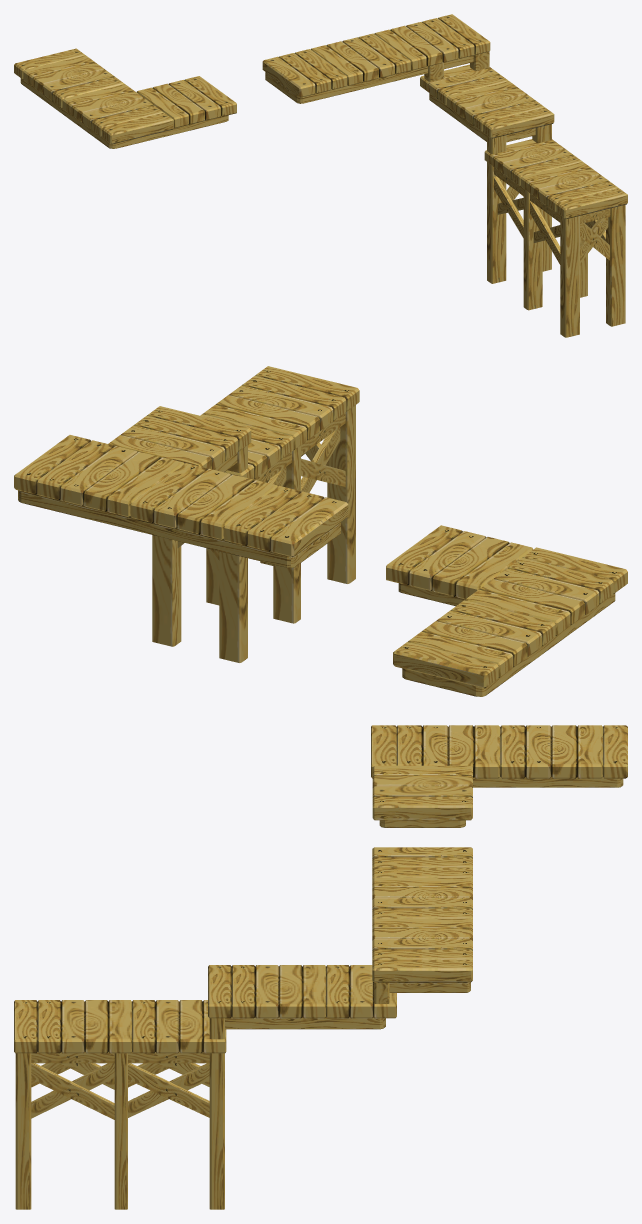
File: HeavenlyBeachTimerStepA_bake.dae
The picture shows the model from 3 angles, top to bottom: view 1: azimuth 30°, elevation 25°; view 2: azimuth 150°, elevation 25°; view 3: azimuth 270°, elevation 25°; orthographic projection. The views are drawn at different scales.
Visible parts, largest first — view 1: m0; view 2: m0; view 3: m0.
Boxes of the visible parts, x1,y1,x2,y2 form: m0: (14, 14, 627, 337); m0: (14, 366, 627, 696); m0: (14, 725, 627, 1209).
Size of the model in its own units: 3000 by 1371 by 3170.
Materials: 2 (2 with a texture image).
